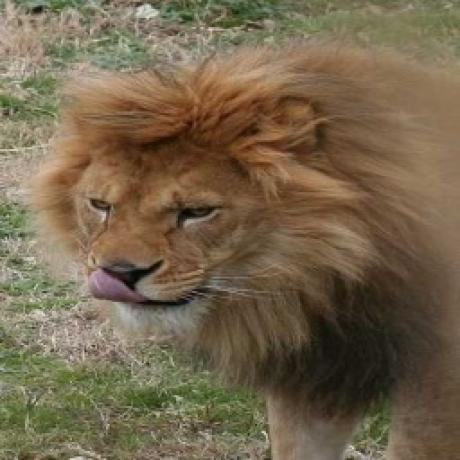Lion: (29, 30, 460, 460)
